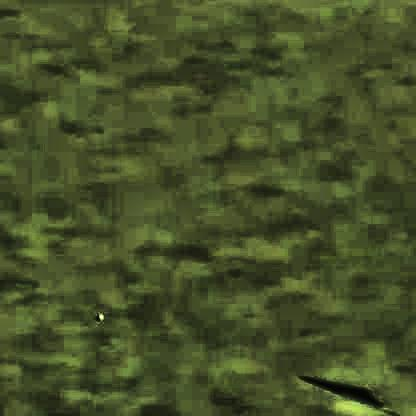golfball: (94, 309, 104, 319)
